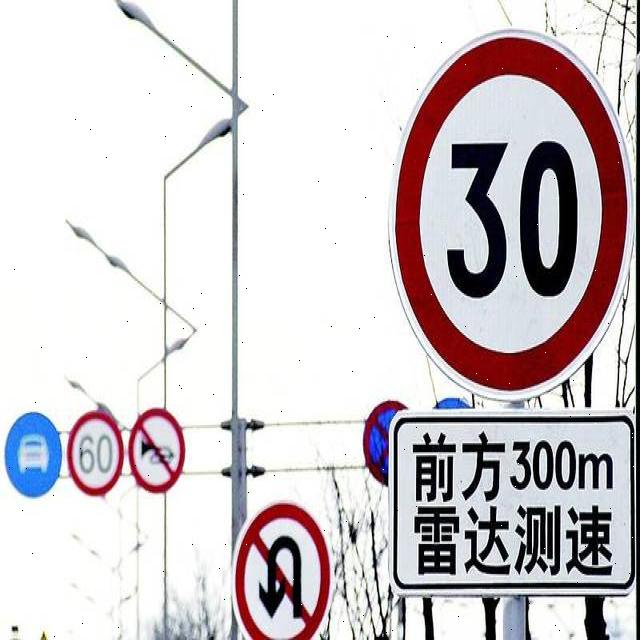speed limit 30: (386, 26, 639, 402)
speed limit 60: (66, 410, 123, 496)
